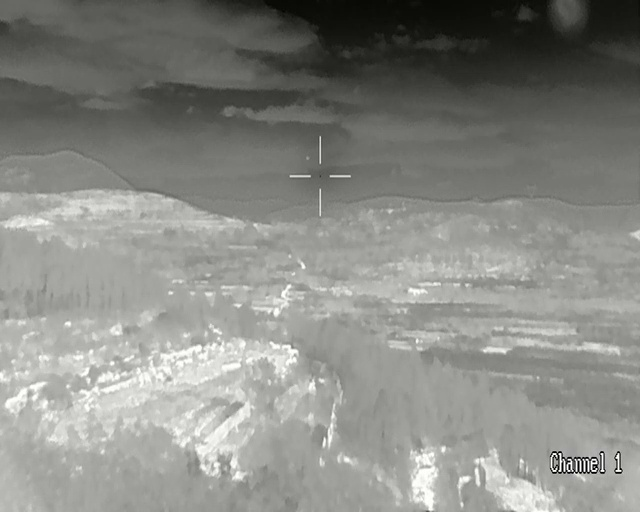uav: (305, 155, 309, 159)
